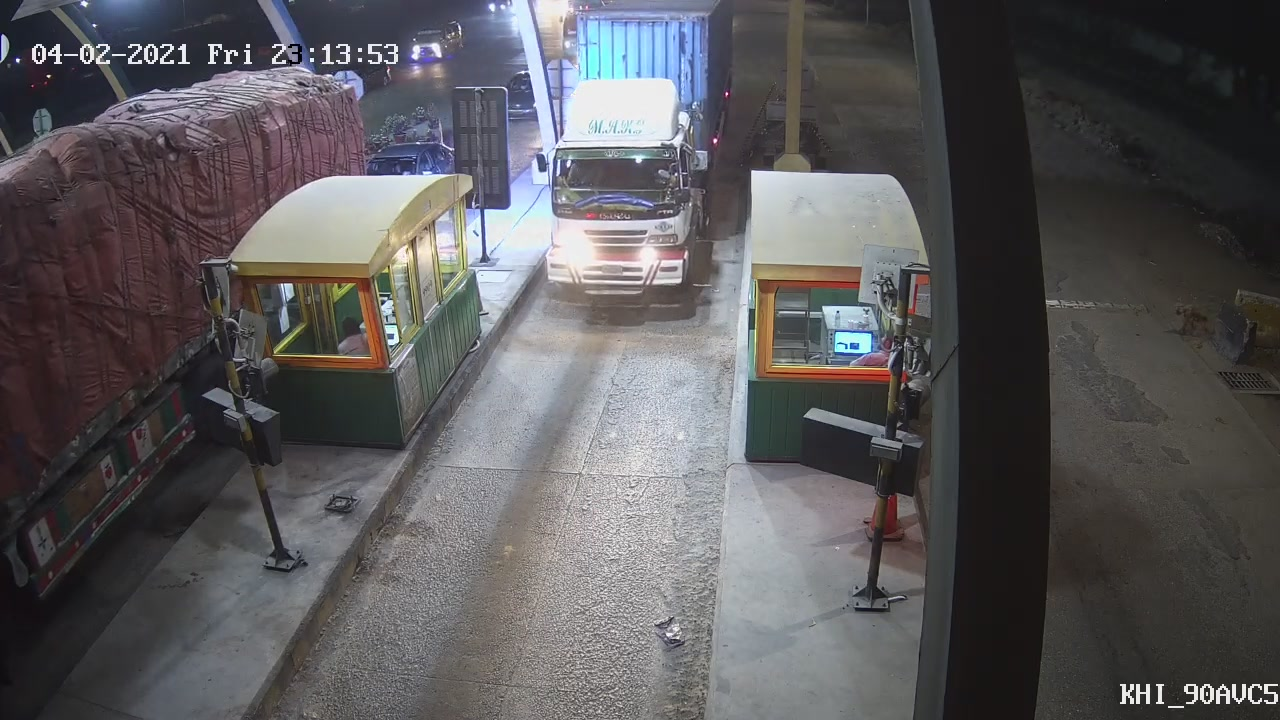F6: (526, 1, 746, 316)
